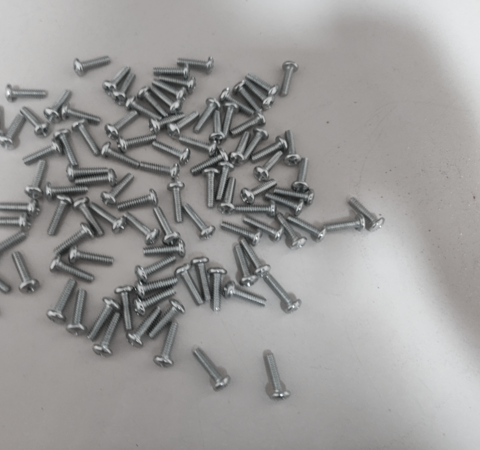shortscrew: (265, 274, 303, 315), (194, 349, 231, 391), (126, 307, 163, 349), (88, 297, 121, 342), (149, 300, 184, 341), (94, 313, 123, 359), (47, 280, 76, 325), (54, 224, 96, 255), (348, 198, 385, 233), (122, 213, 160, 246), (11, 251, 39, 295), (264, 353, 290, 400), (154, 321, 179, 369), (175, 265, 204, 306), (90, 202, 127, 234), (74, 198, 104, 237), (184, 204, 216, 240), (50, 255, 94, 281), (135, 256, 177, 283), (277, 213, 307, 250), (241, 240, 271, 277), (286, 215, 327, 242), (134, 289, 176, 315), (190, 149, 230, 176), (223, 282, 267, 306), (236, 246, 261, 288), (19, 107, 51, 139), (135, 276, 179, 299), (220, 88, 256, 116), (48, 195, 72, 237), (221, 222, 263, 246), (101, 142, 139, 168), (25, 139, 64, 164), (117, 189, 159, 212), (241, 179, 278, 205), (233, 83, 263, 115), (195, 98, 221, 134), (138, 87, 168, 118), (243, 80, 275, 109), (254, 150, 283, 182), (151, 86, 183, 115), (230, 112, 267, 137), (44, 90, 72, 123), (105, 111, 138, 139), (208, 267, 228, 313), (66, 290, 86, 336), (151, 141, 191, 164), (244, 218, 284, 241), (54, 129, 79, 165), (252, 137, 289, 161), (0, 115, 26, 149), (69, 245, 113, 265), (192, 258, 212, 302), (179, 136, 219, 158), (324, 214, 366, 234), (273, 187, 315, 207), (61, 103, 101, 124), (0, 231, 27, 262), (25, 160, 47, 198), (111, 73, 137, 105), (75, 169, 118, 188), (144, 240, 187, 259), (115, 285, 132, 333), (103, 66, 131, 95), (140, 161, 180, 181), (244, 128, 269, 160), (117, 134, 158, 153), (67, 165, 110, 183), (5, 84, 47, 102), (46, 183, 88, 201), (246, 75, 280, 97), (153, 80, 187, 102), (280, 61, 300, 98), (74, 56, 111, 76), (168, 181, 185, 224), (203, 167, 220, 209), (218, 178, 237, 215), (0, 199, 41, 216), (0, 213, 32, 234), (291, 158, 310, 193), (283, 130, 301, 166), (158, 76, 196, 93), (230, 133, 250, 165), (177, 58, 214, 73), (154, 65, 190, 79), (0, 259, 11, 295), (0, 105, 4, 142)
